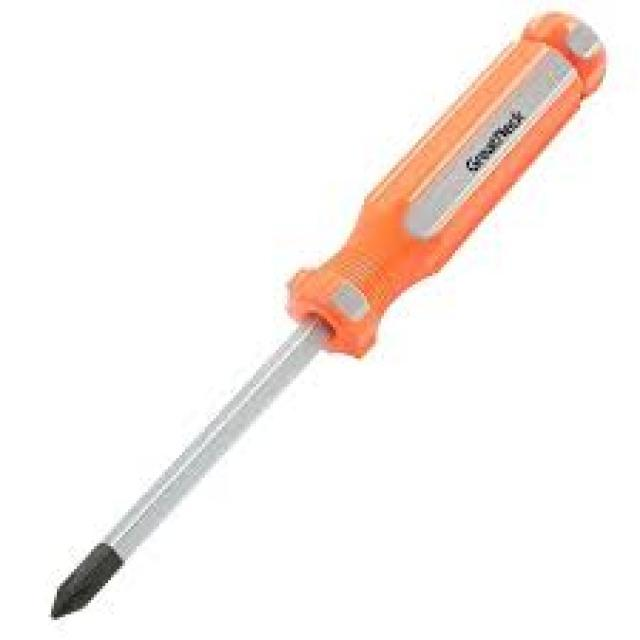screwdriver: (48, 9, 606, 624)
